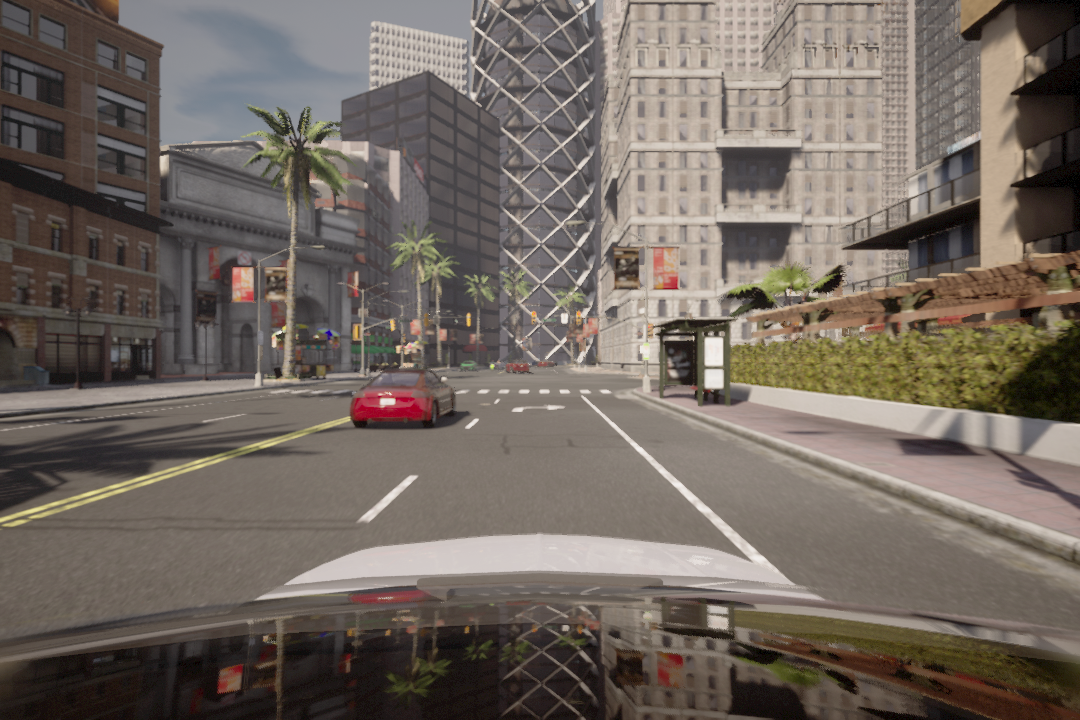RoadSign_right: (511, 400, 570, 417)
walkside: (269, 383, 626, 401)
